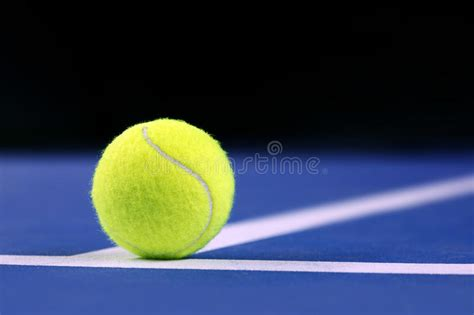tennis_ball: (90, 117, 236, 259)
